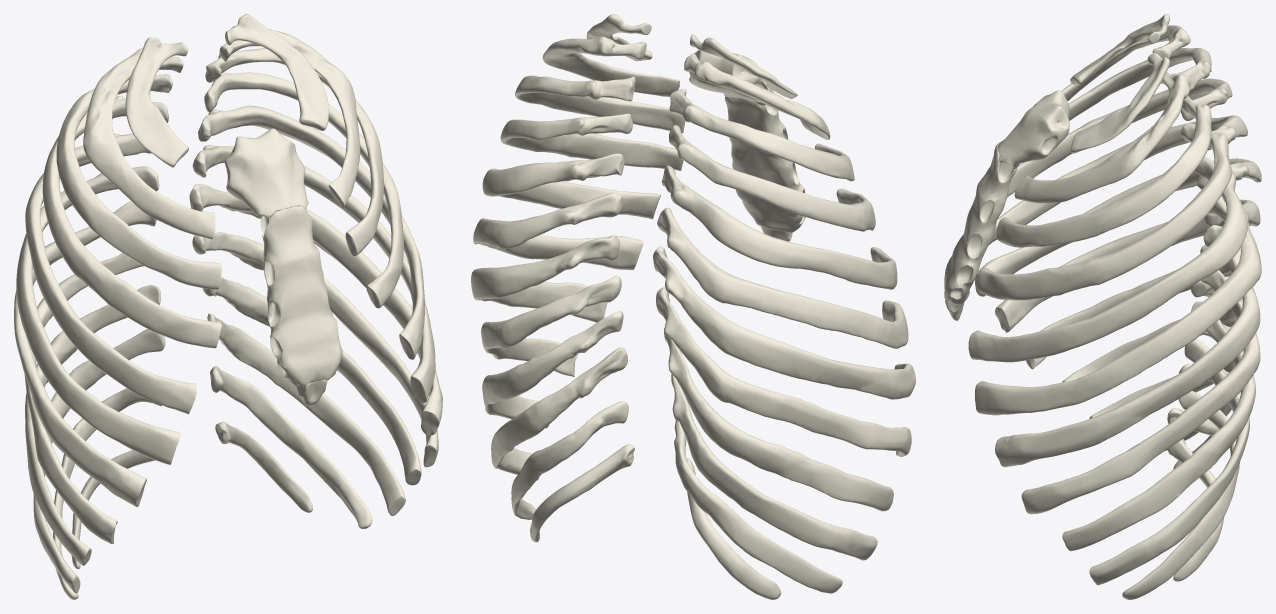
File: thorax.glb
The picture shows the model from 3 angles, left to right: view 1: azimuth 30°, elevation 25°; view 2: azimuth 150°, elevation 25°; view 3: azimuth 270°, elevation 25°; orthographic projection. The views are drawn at different scales.
Parts seen in each view (by area): view 1: bp3d_FMA7487_FJ3178, bp3d_FMA8175_FJ3344, bp3d_FMA7957_FJ3340, bp3d_FMA8066_FJ3342, bp3d_FMA7909_FJ3338, bp3d_FMA7882_FJ3336, bp3d_FMA8229_FJ3346, bp3d_FMA8093_FJ3232, bp3d_FMA7486_FJ3290, bp3d_FMA8472_FJ3225, bp3d_FMA8256_FJ3234, bp3d_FMA8310_FJ3235 (+14 smaller); view 2: bp3d_FMA8229_FJ3346, bp3d_FMA8175_FJ3344, bp3d_FMA8283_FJ3347, bp3d_FMA8364_FJ3348, bp3d_FMA8066_FJ3342, bp3d_FMA8445_FJ3330, bp3d_FMA8093_FJ3232, bp3d_FMA8148_FJ3231, bp3d_FMA8202_FJ3233, bp3d_FMA8256_FJ3234, bp3d_FMA7957_FJ3340, bp3d_FMA8039_FJ3230 (+14 smaller); view 3: bp3d_FMA8202_FJ3233, bp3d_FMA8093_FJ3232, bp3d_FMA8256_FJ3234, bp3d_FMA8148_FJ3231, bp3d_FMA8310_FJ3235, bp3d_FMA8039_FJ3230, bp3d_FMA8391_FJ3236, bp3d_FMA8012_FJ3229, bp3d_FMA8472_FJ3225, bp3d_FMA7487_FJ3178, bp3d_FMA7486_FJ3290, bp3d_FMA8532_FJ3226 (+13 smaller).
Part boxes in pixels (x1=…): bp3d_FMA7487_FJ3178: x1=260, y1=206, x2=342, y2=385; bp3d_FMA8175_FJ3344: x1=16, y1=166, x2=180, y2=464; bp3d_FMA7957_FJ3340: x1=42, y1=95, x2=221, y2=348; bp3d_FMA8066_FJ3342: x1=25, y1=133, x2=196, y2=414; bp3d_FMA7909_FJ3338: x1=56, y1=74, x2=221, y2=289; bp3d_FMA7882_FJ3336: x1=83, y1=48, x2=215, y2=239; bp3d_FMA8229_FJ3346: x1=14, y1=201, x2=156, y2=507; bp3d_FMA8093_FJ3232: x1=198, y1=105, x2=424, y2=359; bp3d_FMA7486_FJ3290: x1=224, y1=128, x2=308, y2=218; bp3d_FMA8472_FJ3225: x1=207, y1=313, x2=405, y2=515; bp3d_FMA8256_FJ3234: x1=189, y1=184, x2=442, y2=435; bp3d_FMA8310_FJ3235: x1=192, y1=232, x2=438, y2=467; bp3d_FMA8229_FJ3346: x1=653, y1=246, x2=915, y2=399; bp3d_FMA8175_FJ3344: x1=657, y1=207, x2=908, y2=348; bp3d_FMA8283_FJ3347: x1=656, y1=287, x2=911, y2=456; bp3d_FMA8364_FJ3348: x1=664, y1=328, x2=893, y2=511; bp3d_FMA8066_FJ3342: x1=661, y1=165, x2=897, y2=289; bp3d_FMA8445_FJ3330: x1=671, y1=374, x2=877, y2=560; bp3d_FMA8093_FJ3232: x1=482, y1=153, x2=660, y2=219; bp3d_FMA8148_FJ3231: x1=500, y1=113, x2=683, y2=170; bp3d_FMA8202_FJ3233: x1=473, y1=192, x2=643, y2=269; bp3d_FMA8256_FJ3234: x1=471, y1=235, x2=619, y2=322; bp3d_FMA7957_FJ3340: x1=669, y1=125, x2=875, y2=231; bp3d_FMA8039_FJ3230: x1=515, y1=75, x2=685, y2=133; bp3d_FMA8202_FJ3233: x1=975, y1=197, x2=1261, y2=415; bp3d_FMA8093_FJ3232: x1=968, y1=156, x2=1247, y2=362; bp3d_FMA8256_FJ3234: x1=995, y1=225, x2=1260, y2=467; bp3d_FMA8148_FJ3231: x1=977, y1=123, x2=1232, y2=300; bp3d_FMA8310_FJ3235: x1=1021, y1=270, x2=1260, y2=514; bp3d_FMA8039_FJ3230: x1=996, y1=96, x2=1211, y2=247; bp3d_FMA8391_FJ3236: x1=1062, y1=301, x2=1255, y2=551; bp3d_FMA8012_FJ3229: x1=1014, y1=72, x2=1190, y2=203; bp3d_FMA8472_FJ3225: x1=1089, y1=339, x2=1249, y2=585; bp3d_FMA7487_FJ3178: x1=944, y1=143, x2=1017, y2=305; bp3d_FMA7486_FJ3290: x1=997, y1=90, x2=1069, y2=168; bp3d_FMA8532_FJ3226: x1=1122, y1=391, x2=1239, y2=599.
Bounding box in the file's own units: 0.2729 × 0.3624 × 0.2102.
